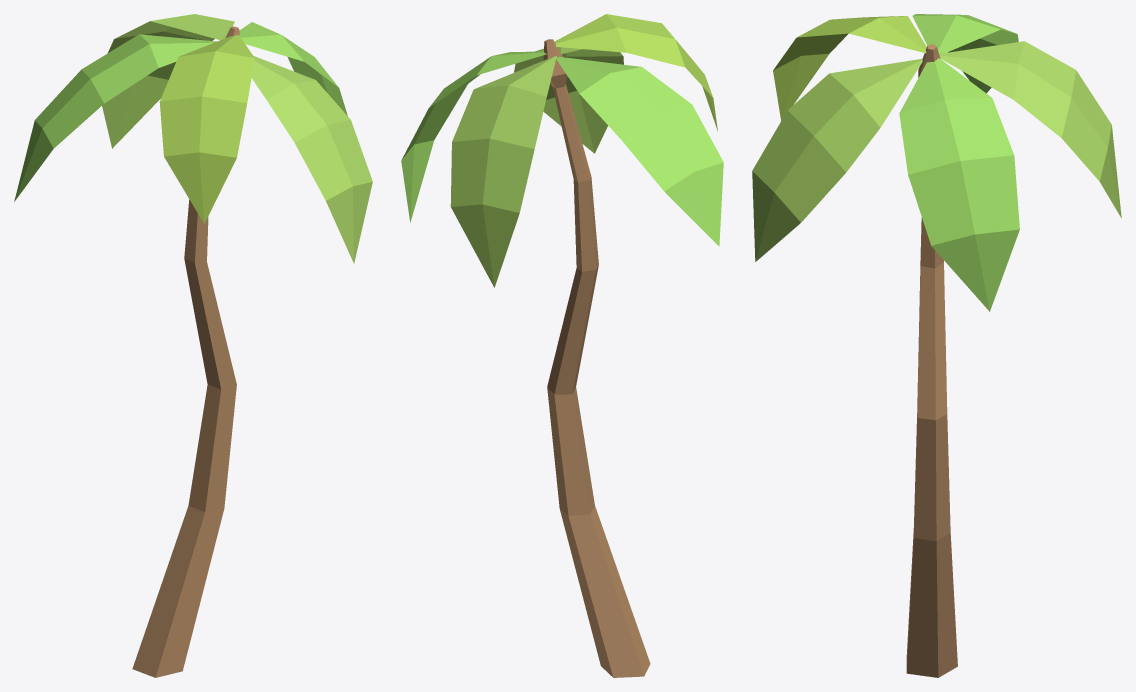
File: Palm_Tree_s_04.fbx
The picture shows the model from 3 angles, left to right: view 1: azimuth 30°, elevation 25°; view 2: azimuth 150°, elevation 25°; view 3: azimuth 270°, elevation 25°; orthographic projection. The views are drawn at different scales.
Visible parts, largest first — view 1: Palm_Tree_s_04; view 2: Palm_Tree_s_04; view 3: Palm_Tree_s_04.
Boxes of the visible parts, x1=… form: Palm_Tree_s_04: x1=14, y1=14, x2=372, y2=677; Palm_Tree_s_04: x1=401, y1=14, x2=723, y2=677; Palm_Tree_s_04: x1=752, y1=14, x2=1121, y2=677.
Size of the model in its own units: 243 by 462 by 232.
